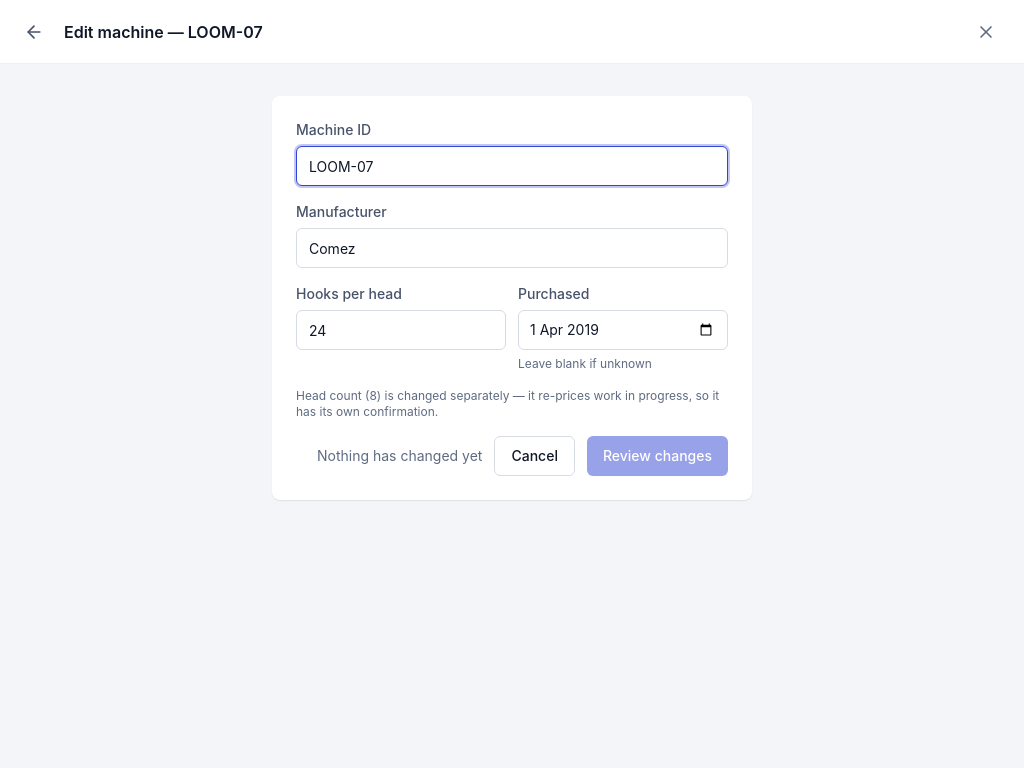
Test: the confirmation › counts them when more than one changes
Replace the text in the field labelled "Manufacturer" with "Jakob Muller". click: (512, 248)
box: [296,228,728,268]
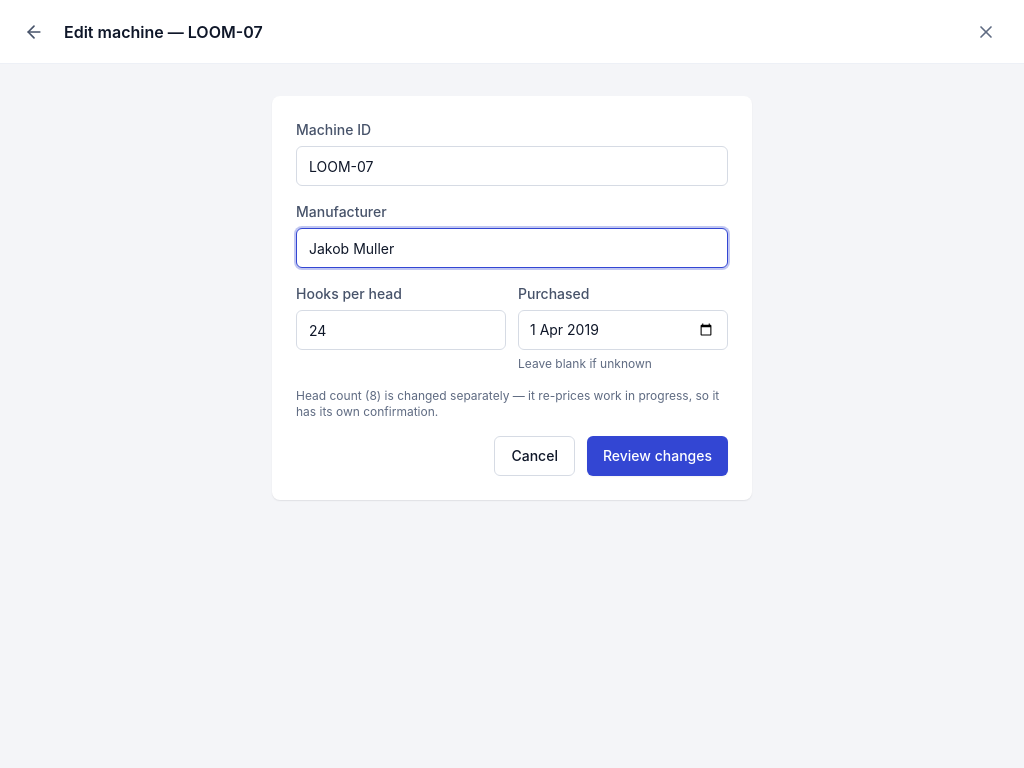
Replace the text in the number field labelled "Hooks per head" with "36". click: (401, 330)
box: [296,310,506,350]
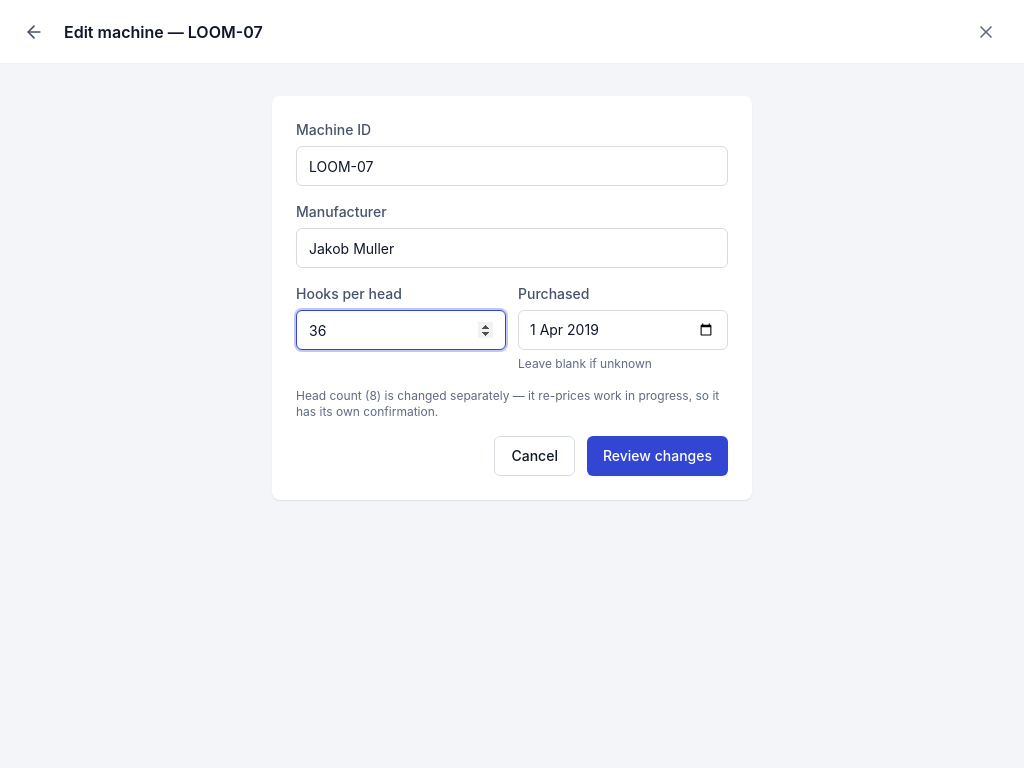
Click the button "Review changes". click: (657, 456)
box: [587,436,728,476]
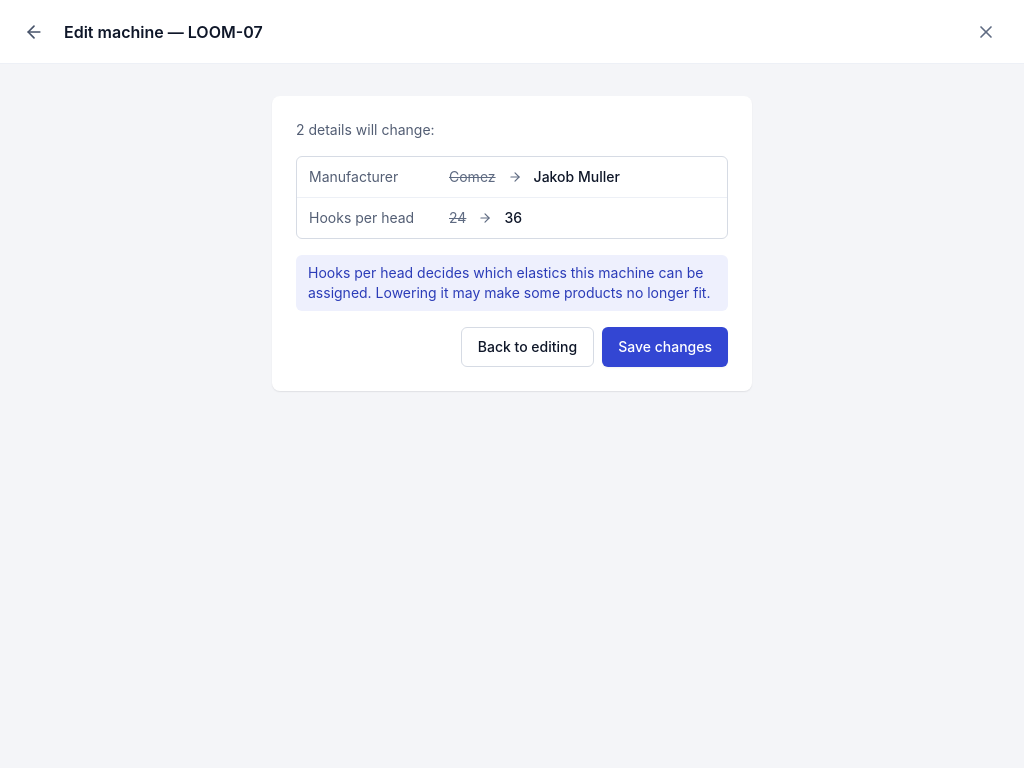
Expected: the text "2 details will change:" is shown, [296,121,435,138]
